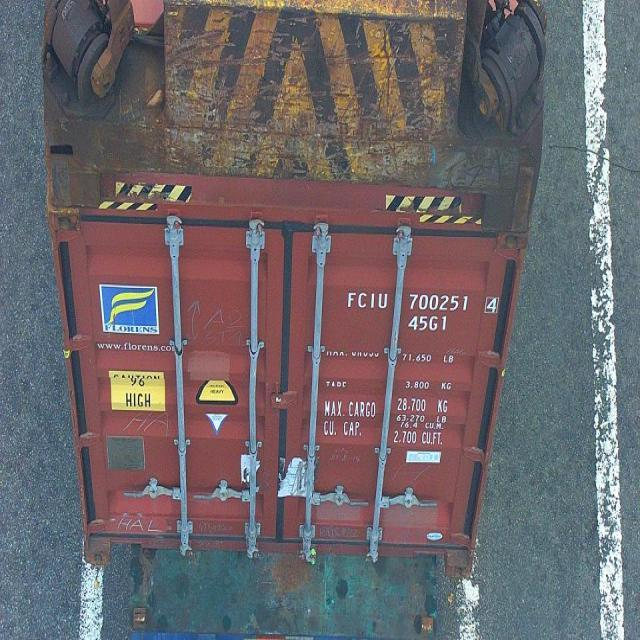ISO: (407, 314, 449, 333)
container_number: (350, 292, 506, 312)
